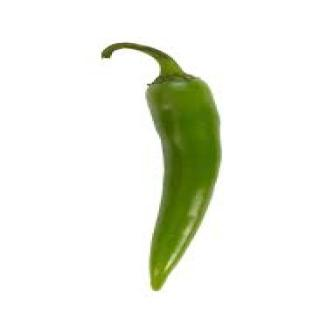Cabai Hijau: (141, 43, 227, 295)
